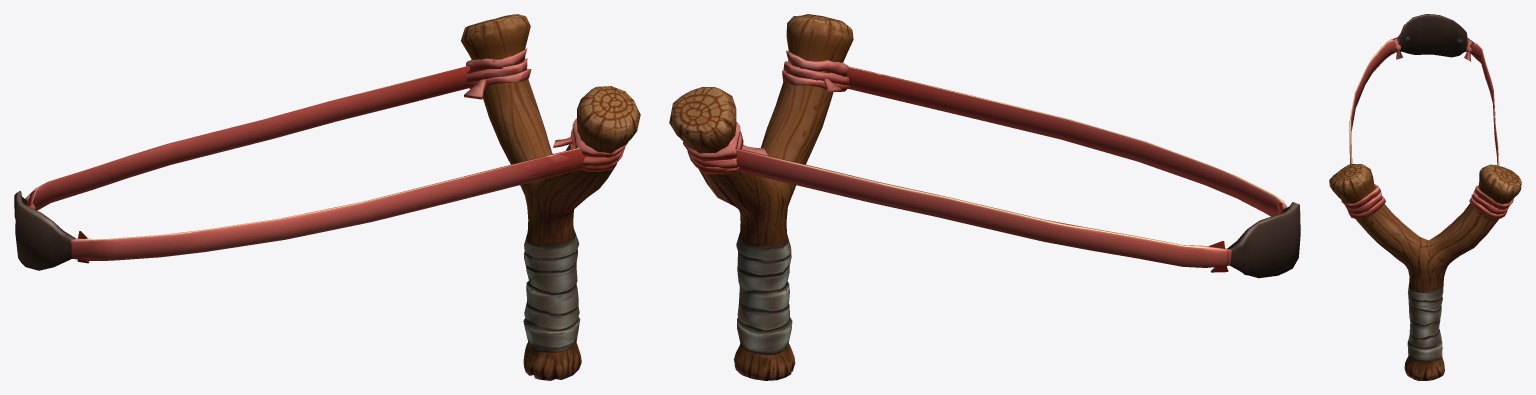
File: resortera_blend_estirando.fbx
3 views of the same model, side by side, from view 1: azimuth 30°, elevation 25°; view 2: azimuth 150°, elevation 25°; view 3: azimuth 270°, elevation 25° (orthographic). The views are drawn at different scales.
Visible parts, largest first — view 1: Sphere003, Base_Resortera_Low, Tiras4_Low; view 2: Sphere003, Base_Resortera_Low, Tiras4_Low; view 3: Base_Resortera_Low, Sphere003, Tiras4_Low.
Part boxes in pixels (x1=…): Sphere003: x1=14, y1=66, x2=585, y2=270; Base_Resortera_Low: x1=461, y1=14, x2=640, y2=380; Tiras4_Low: x1=464, y1=48, x2=628, y2=171; Sphere003: x1=733, y1=66, x2=1300, y2=278; Base_Resortera_Low: x1=669, y1=14, x2=853, y2=380; Tiras4_Low: x1=683, y1=50, x2=849, y2=174; Base_Resortera_Low: x1=1329, y1=164, x2=1521, y2=380; Sphere003: x1=1349, y1=14, x2=1499, y2=165; Tiras4_Low: x1=1341, y1=184, x2=1513, y2=219.
Bounding box in the file's own units: 47.64 × 25.48 × 21.36.
1 material, 1 textured.
